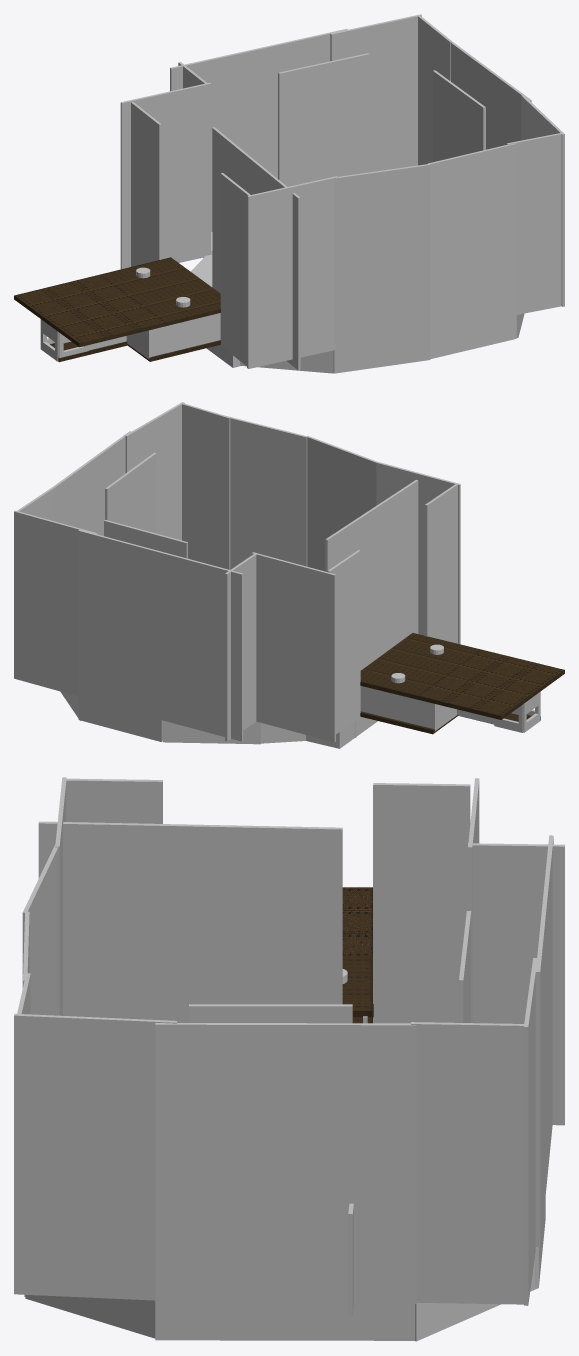
The picture shows the model from 3 angles, top to bottom: view 1: azimuth 30°, elevation 25°; view 2: azimuth 150°, elevation 25°; view 3: azimuth 270°, elevation 25°; orthographic projection. The views are drawn at different scales.
Visible parts, largest first — view 1: 큐브.013_큐브.036, 큐브.015_큐브.038, 큐브.011_큐브.034, 큐브.036_큐브.063, 큐브.031_큐브.056, 큐브.008_큐브.031, 큐브.032_큐브.059, 큐브.027_큐브.058, 큐브.019_큐브.066, 큐브.035_큐브.062, 큐브.021_큐브.054, 큐브.030_큐브.055 (+13 smaller); view 2: 큐브.017_큐브.040, 큐브.031_큐브.056, 큐브.019_큐브.066, 큐브.032_큐브.059, 큐브.015_큐브.038, 큐브.035_큐브.062, 큐브.008_큐브.031, 큐브.027_큐브.058, 큐브.013_큐브.036, 큐브.021_큐브.054, 큐브.023_큐브.057, 큐브.030_큐브.055 (+13 smaller); view 3: 큐브.025_큐브.048, 큐브.035_큐브.062, 큐브.023_큐브.057, 큐브.033_큐브.060, 큐브.030_큐브.055, 큐브.038_큐브.067, 큐브.026_큐브.049, 큐브.013_큐브.036, 큐브.021_큐브.054, 큐브.008_큐브.031, 큐브.032_큐브.059, 큐브.017_큐브.040 (+7 smaller).
Boxes of the visible parts, x1,y1,x2,y2 form: 큐브.013_큐브.036: (334,164,430,350); 큐브.015_큐브.038: (427,143,516,336); 큐브.011_큐브.034: (247,176,338,368); 큐브.036_큐브.063: (278,53,369,186); 큐브.031_큐브.056: (120,82,211,269); 큐브.008_큐브.031: (14,257,220,347); 큐브.032_큐브.059: (330,14,421,172); 큐브.027_큐브.058: (506,133,561,314); 큐브.019_큐브.066: (170,48,260,231); 큐브.035_큐브.062: (212,127,300,370); 큐브.021_큐브.054: (220,173,250,365); 큐브.030_큐브.055: (131,102,161,266); 큐브.017_큐브.040: (78,529,161,719); 큐브.031_큐브.056: (251,552,335,742); 큐브.019_큐브.066: (159,552,243,741); 큐브.032_큐브.059: (14,510,97,696); 큐브.015_큐브.038: (225,415,307,569); 큐브.035_큐브.062: (325,479,418,670); 큐브.008_큐브.031: (360,633,564,719); 큐브.027_큐브.058: (182,403,230,569); 큐브.013_큐브.036: (306,435,377,571); 큐브.021_큐브.054: (425,484,457,643); 큐브.023_큐브.057: (125,402,184,540); 큐브.030_큐브.055: (327,550,360,733); 큐브.025_큐브.048: (155,1023,416,1303); 큐브.035_큐브.062: (38,821,342,1022); 큐브.023_큐브.057: (14,1013,177,1300); 큐브.033_큐브.060: (411,1022,524,1304); 큐브.030_큐브.055: (373,783,470,1023); 큐브.038_큐브.067: (468,843,564,1125); 큐브.026_큐브.049: (155,1303,415,1340); 큐브.013_큐브.036: (22,845,58,1015); 큐브.021_큐브.054: (66,778,162,823); 큐브.008_큐브.031: (342,887,373,1017); 큐브.032_큐브.059: (524,958,536,1305); 큐브.017_큐브.040: (535,902,546,1250).
Size of the model in its own units: 253 by 102 by 161.
2 materials, 1 textured.
